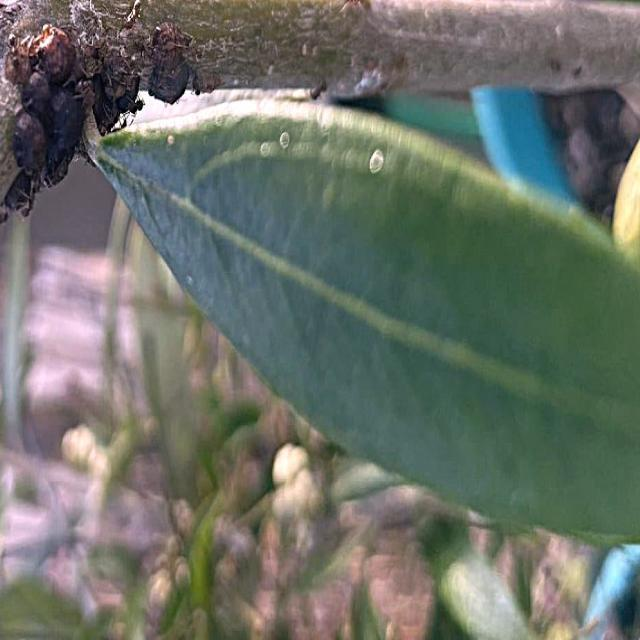BlackScale: (0, 0, 201, 224)
